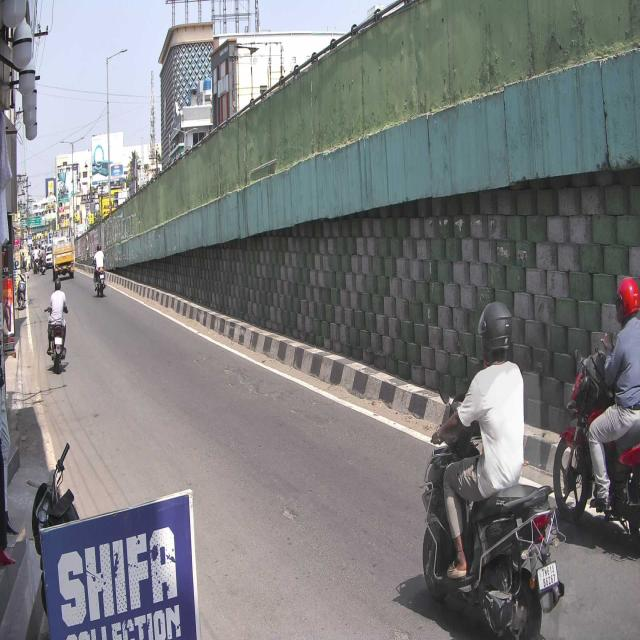single_rider: (422, 302, 561, 640)
